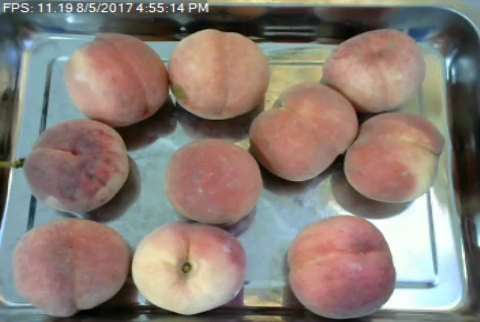Peach: (12, 217, 129, 315), (287, 215, 396, 318), (248, 81, 360, 181), (133, 222, 245, 315), (24, 117, 131, 212), (318, 25, 425, 116), (67, 32, 169, 126), (170, 29, 274, 121), (342, 112, 447, 202), (164, 137, 262, 224)
